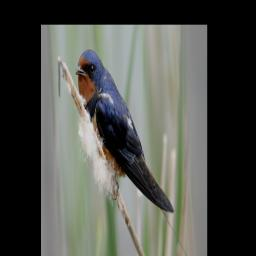Swallow: (74, 48, 174, 214)
